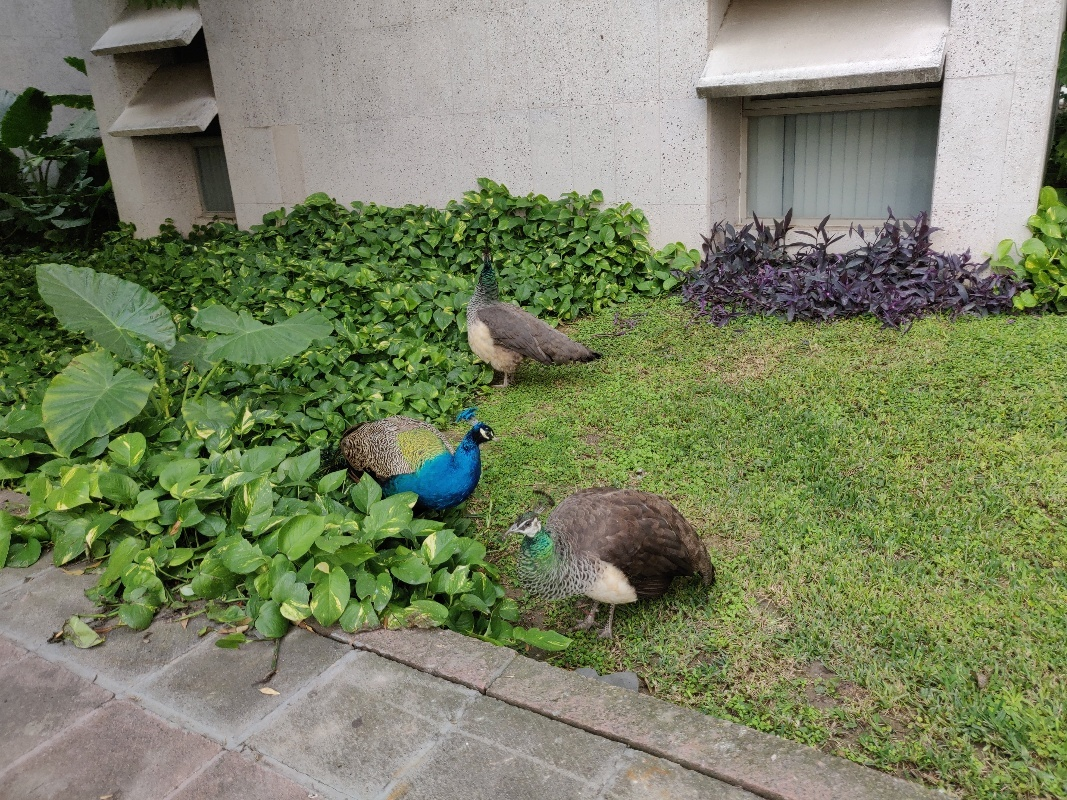pavoreal: (513, 476, 719, 643), (336, 417, 492, 527), (467, 241, 574, 390)
